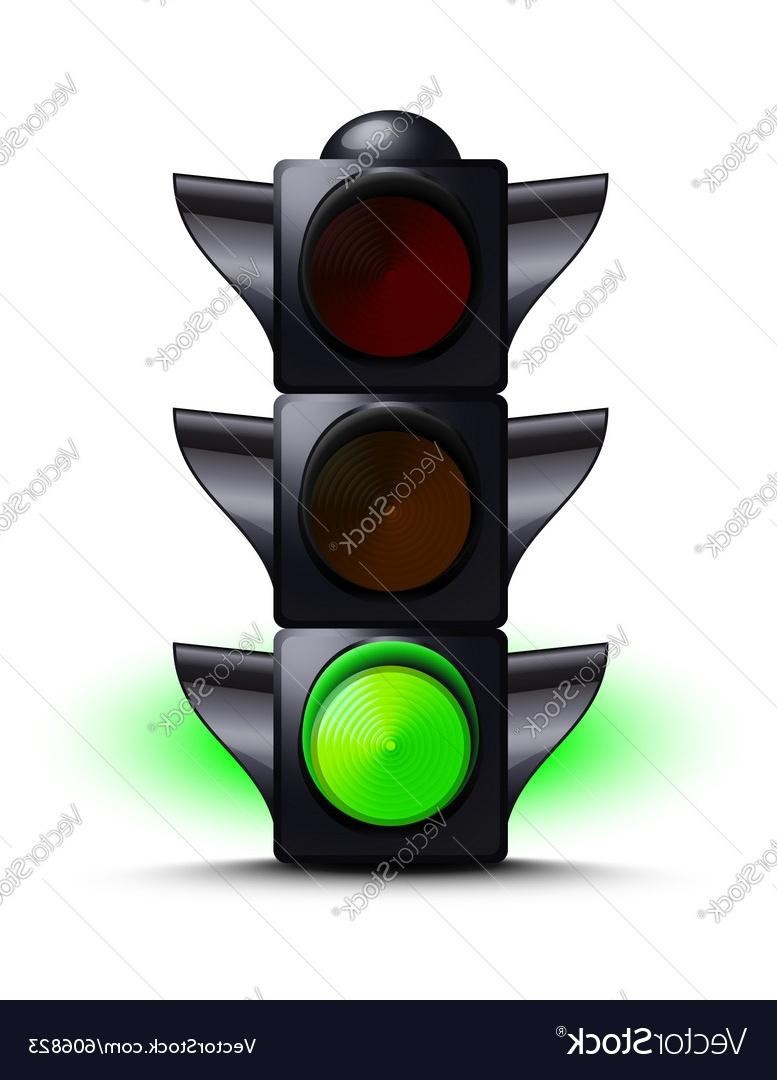Traffic light green: (268, 162, 518, 865)
